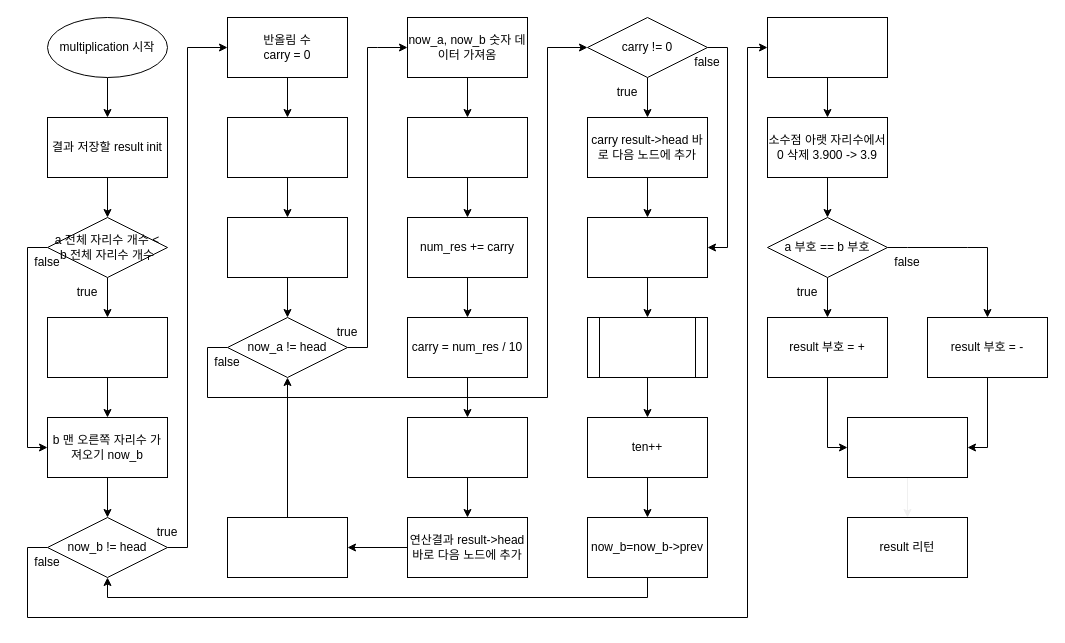
Image size: 1065x643. Some labels were removed from this diagram. The shapes that lost their labels are listed below. From the top down, each one's centre as x and y in pixels, then its label:
At point 827,47: "result 소수점 위치= a 소수점 위치+b 소수점위치".
At point 287,147: "a 맨 오른쪽 자리수 가져오기 now_a".
At point 467,147: "계산 결과 num_res = now_a * now_b".
At point 287,247: "중간저장 Expression tmp 초기화".
At point 647,247: "ten 개수만큼 0을 자리수 맨 왼쪽에 추가".
At point 107,347: "a와 b 바꿔주기".
At point 647,347: "addition(result, tmp)".
At point 467,447: "num_res %= 10".
At point 907,447: "a, b 메모리 해제".
At point 287,547: "now_a=now_a->prev".
